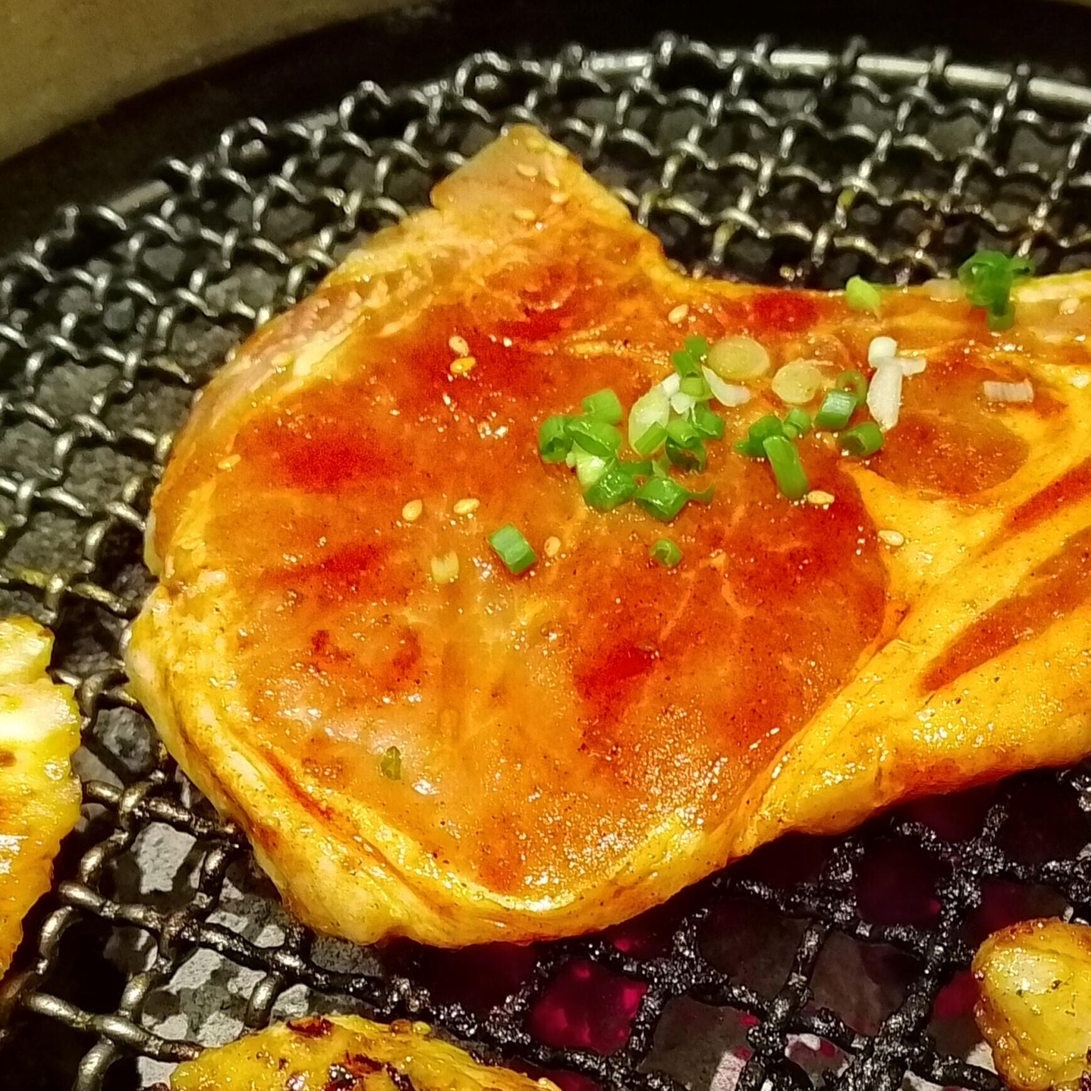Overcooked: (157, 1015, 601, 1090)
Undercooked: (127, 127, 1090, 947)
Well-Cooked: (0, 614, 84, 983), (968, 920, 1090, 1090)
